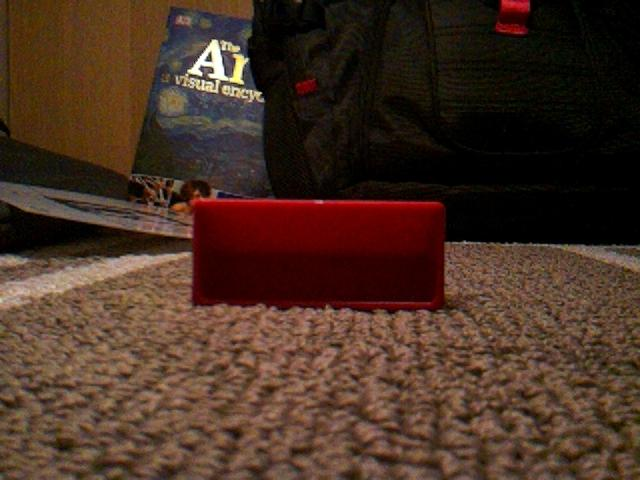red: (190, 197, 448, 313)
